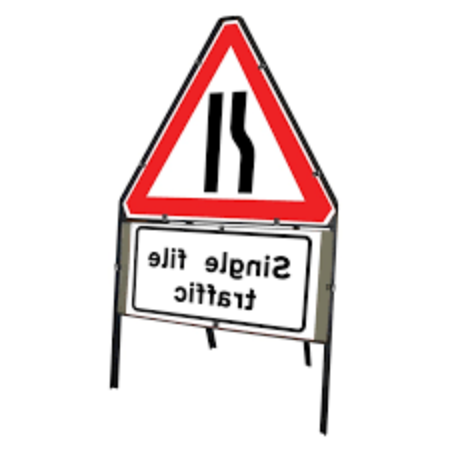Narrow_road: (114, 14, 344, 227)
